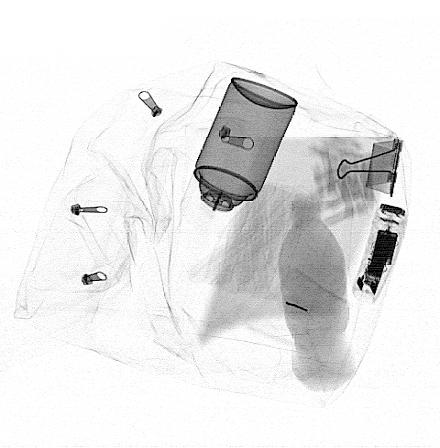Sprayer: (181, 76, 299, 238)
